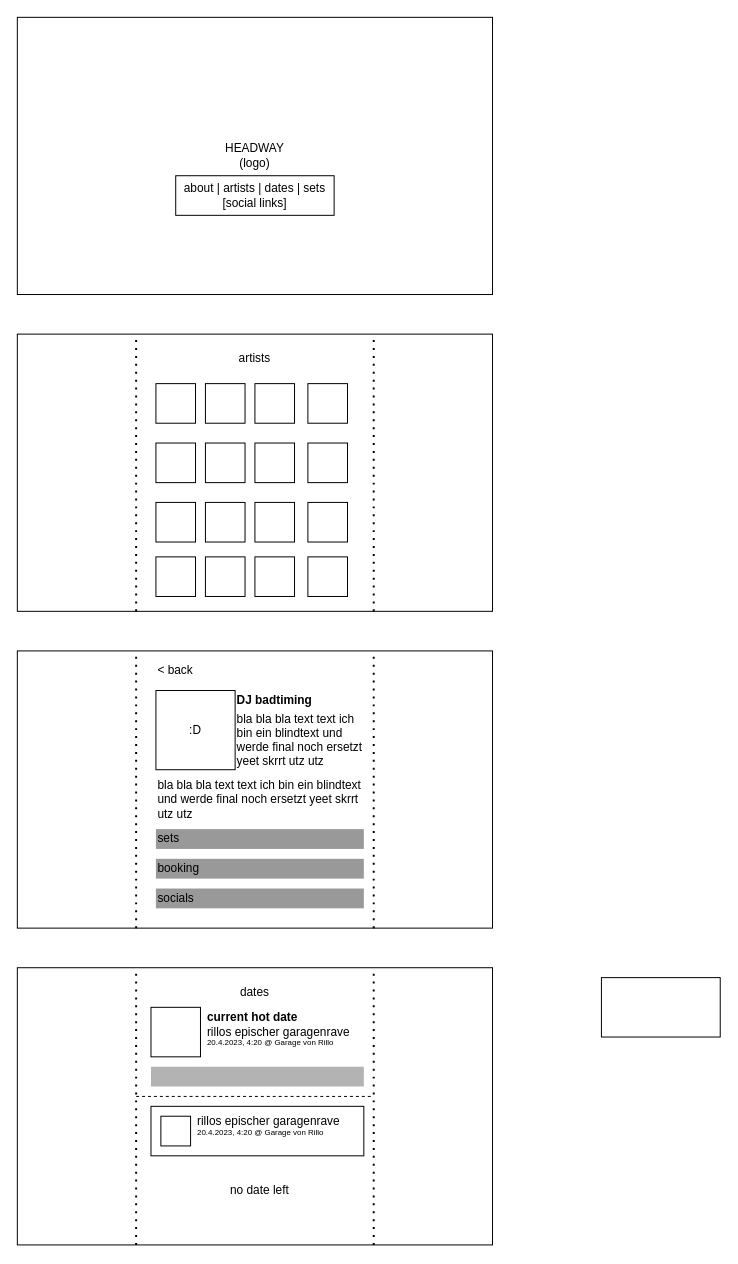
Some shapes in this 738 by 1264 pixel diagram are drawn without their labels. Each missing label, with the centre of its shape:
(club- promo): (175,1031)
MERKEN: (256,1076)
